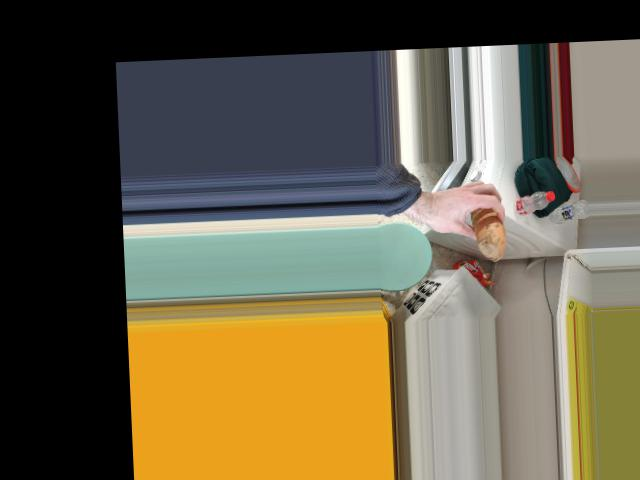sweet_potato: (462, 201, 508, 248)
